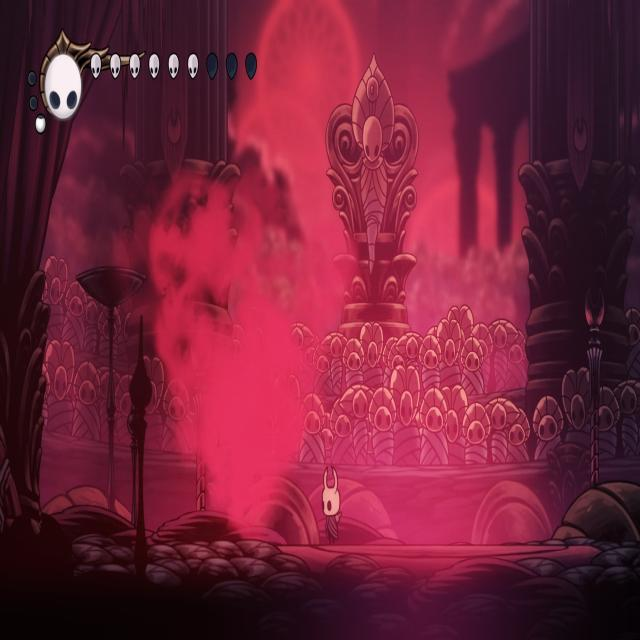Player: (321, 458, 347, 546)
